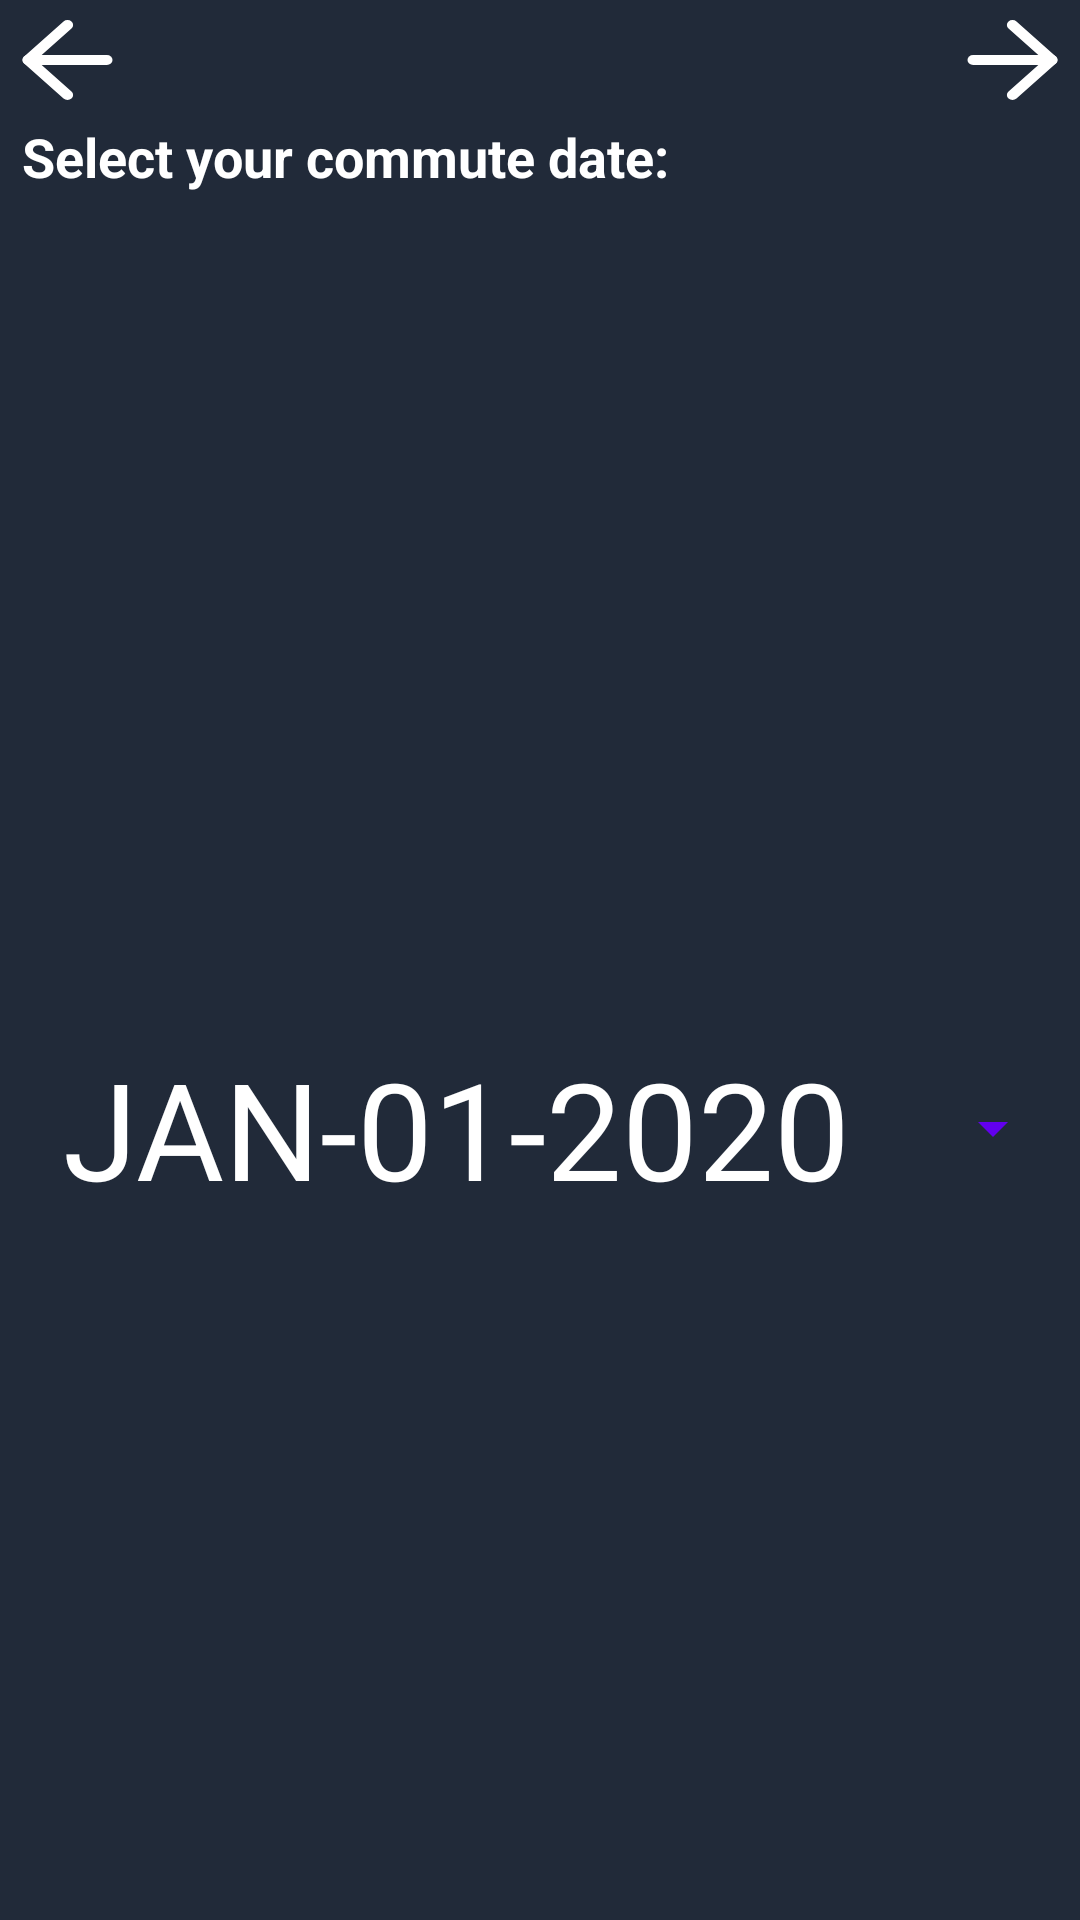

Screen size 1080w x 1920h. Icon name, then its box in pixels as rect(x1, y1, x2, y2):
arrow left: rect(22, 20, 113, 100)
arrow right: rect(967, 20, 1058, 100)
